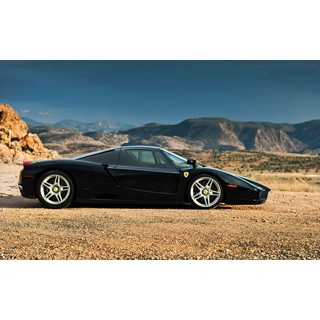car: (19, 146, 271, 208)
